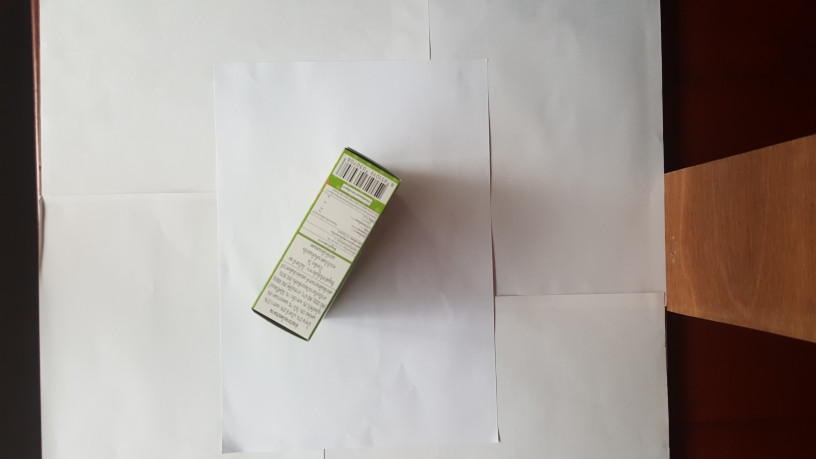collon-matcha: (249, 147, 403, 342)
